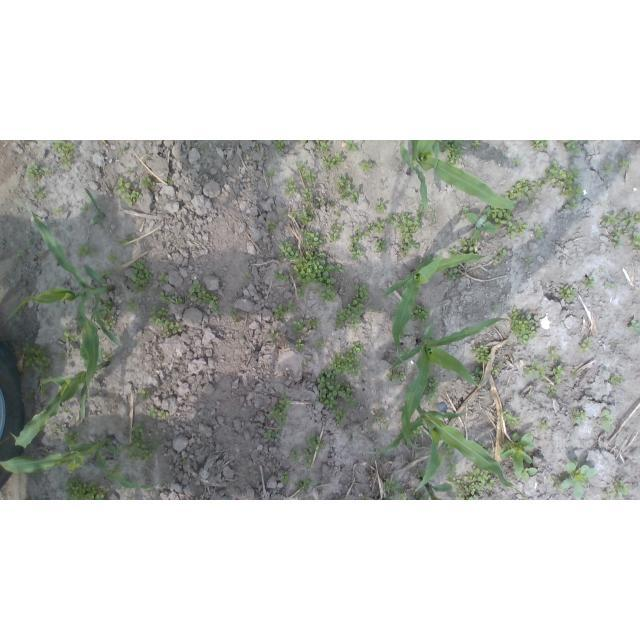Maize: (5, 202, 124, 422), (389, 317, 509, 450), (387, 403, 530, 500), (384, 244, 488, 365), (12, 346, 111, 449), (1, 434, 160, 490), (400, 141, 517, 214), (418, 476, 454, 500), (84, 189, 105, 226)
Weeds: (291, 250, 345, 288), (499, 433, 538, 484), (550, 459, 590, 500), (387, 212, 420, 255), (315, 367, 346, 410), (508, 306, 536, 345), (464, 206, 496, 240), (62, 477, 107, 500), (22, 343, 52, 377), (462, 466, 497, 495), (149, 307, 181, 338), (545, 161, 580, 188), (332, 303, 364, 332), (331, 350, 361, 379), (502, 179, 535, 205), (267, 396, 292, 427), (187, 280, 218, 304), (132, 259, 152, 293), (121, 442, 154, 462), (52, 141, 76, 168), (439, 141, 464, 166), (421, 375, 439, 406), (383, 478, 407, 500), (505, 219, 528, 239), (322, 152, 344, 172), (411, 304, 431, 326), (471, 343, 491, 365), (315, 280, 337, 300), (277, 240, 299, 260), (490, 207, 513, 226), (302, 231, 326, 249), (305, 432, 325, 453), (610, 227, 628, 250), (336, 175, 352, 200), (618, 210, 640, 228), (561, 184, 584, 201), (348, 236, 364, 260), (596, 409, 612, 433), (525, 360, 546, 378), (352, 284, 368, 307), (343, 382, 357, 408), (25, 162, 43, 182), (160, 291, 185, 305), (448, 475, 469, 491), (502, 410, 521, 427), (328, 223, 344, 243), (332, 406, 347, 427), (115, 177, 131, 196), (297, 210, 316, 226), (130, 423, 145, 443), (560, 285, 577, 302), (459, 238, 477, 254), (439, 441, 455, 459), (550, 362, 563, 384), (368, 219, 388, 233), (60, 328, 80, 342), (125, 191, 143, 206), (296, 477, 315, 491), (286, 177, 299, 197), (600, 211, 616, 227), (272, 304, 287, 321), (99, 299, 113, 317), (470, 366, 484, 384), (615, 479, 630, 495), (140, 175, 157, 189), (76, 245, 94, 258), (302, 449, 314, 468), (453, 492, 478, 501), (444, 267, 460, 281), (564, 140, 580, 154), (291, 318, 305, 334), (315, 140, 332, 153), (387, 371, 407, 382), (302, 169, 316, 184), (301, 188, 314, 204), (548, 346, 561, 362), (628, 319, 640, 336), (101, 315, 115, 329), (570, 409, 586, 421), (532, 141, 549, 152), (356, 225, 369, 239), (535, 177, 548, 191), (580, 339, 593, 353), (359, 160, 374, 172), (532, 224, 544, 239), (410, 424, 422, 439), (608, 375, 624, 386), (111, 460, 122, 476), (273, 270, 289, 281), (264, 429, 281, 439), (34, 187, 47, 200), (583, 276, 595, 290), (565, 200, 580, 211), (632, 231, 640, 251), (346, 140, 359, 152), (375, 200, 387, 213), (138, 388, 151, 400), (146, 406, 158, 419), (352, 342, 365, 354), (308, 317, 321, 329), (295, 338, 306, 352), (273, 140, 285, 152), (420, 254, 436, 263), (376, 240, 387, 253), (153, 437, 164, 450), (286, 300, 297, 313), (447, 247, 461, 257), (496, 246, 508, 257), (547, 384, 558, 396), (280, 472, 290, 485), (416, 204, 424, 220), (296, 286, 305, 300), (491, 364, 502, 375), (159, 272, 169, 284), (100, 267, 112, 277), (603, 163, 615, 173), (538, 419, 550, 429), (351, 188, 359, 202), (107, 252, 117, 263), (447, 463, 457, 474), (480, 444, 492, 453), (40, 384, 48, 397), (267, 220, 278, 229), (56, 355, 70, 362), (398, 348, 410, 356), (619, 160, 629, 169), (16, 250, 25, 260), (228, 307, 237, 317), (128, 299, 137, 309), (315, 197, 323, 208), (159, 411, 170, 419), (71, 433, 82, 441), (53, 207, 62, 216), (212, 304, 221, 313), (292, 452, 301, 461), (315, 340, 324, 349), (470, 140, 480, 148), (80, 206, 91, 213), (494, 256, 502, 264), (524, 256, 532, 264), (120, 239, 129, 246), (56, 425, 65, 432), (269, 329, 276, 338), (605, 283, 615, 289), (297, 163, 304, 171), (290, 211, 298, 218), (604, 493, 612, 500), (378, 452, 385, 460), (165, 179, 173, 185), (200, 147, 208, 153), (512, 158, 520, 164), (267, 171, 273, 178), (491, 305, 497, 312), (27, 390, 34, 396), (44, 167, 49, 175), (431, 212, 436, 219), (52, 222, 57, 228), (573, 371, 577, 378), (336, 211, 341, 216), (127, 497, 135, 500), (281, 212, 287, 216), (120, 148, 125, 152), (368, 424, 372, 429), (376, 416, 381, 420), (584, 141, 589, 144), (62, 410, 65, 413)
